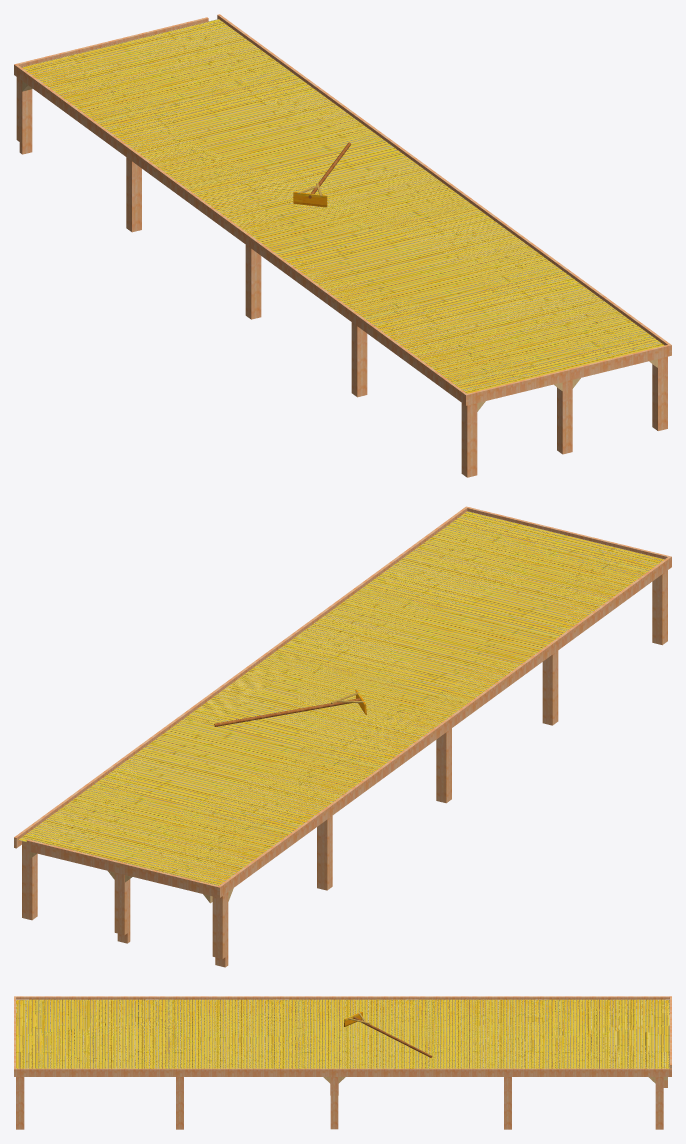
File: Secador.glb
3 renders of one model, top to bottom at view 1: azimuth 30°, elevation 25°; view 2: azimuth 150°, elevation 25°; view 3: azimuth 270°, elevation 25°, orthographic. The views are drawn at different scales.
Visible parts, largest first — view 1: group_79, group_27, group_41, group_78, group_73, group_57, group_51, group_45, group_65, group_38, group_75, group_35; view 2: group_79, group_27, group_41, group_35, group_45, group_57, group_44, group_75, group_51, group_73, group_43, group_78; view 3: group_79, group_41, group_27, group_38, group_43, group_77.002, group_54, group_77, group_248.
Part boxes in pixels (left/top/right/bottom): group_79: left=21, top=19, right=664, bottom=393; group_27: left=14, top=64, right=468, bottom=405; group_41: left=217, top=14, right=671, bottom=356; group_78: left=467, top=345, right=669, bottom=404; group_73: left=461, top=403, right=477, bottom=477; group_57: left=351, top=322, right=367, bottom=397; group_51: left=245, top=245, right=261, bottom=319; group_45: left=16, top=77, right=32, bottom=154; group_65: left=557, top=380, right=572, bottom=454; group_38: left=652, top=356, right=667, bottom=430; group_75: left=126, top=157, right=141, bottom=232; group_35: left=17, top=17, right=208, bottom=66; group_79: left=18, top=511, right=664, bottom=885; group_27: left=217, top=556, right=671, bottom=897; group_41: left=14, top=506, right=468, bottom=848; group_35: left=26, top=839, right=217, bottom=897; group_45: left=212, top=892, right=228, bottom=967; group_57: left=542, top=650, right=558, bottom=725; group_44: left=114, top=872, right=130, bottom=943; group_75: left=317, top=816, right=332, bottom=890; group_51: left=436, top=728, right=451, bottom=803; group_73: left=652, top=570, right=667, bottom=645; group_43: left=22, top=844, right=37, bottom=920; group_78: left=467, top=507, right=668, bottom=559; group_79: left=16, top=999, right=669, bottom=1068; group_41: left=14, top=1068, right=671, bottom=1076; group_27: left=14, top=996, right=671, bottom=999; group_38: left=16, top=1077, right=24, bottom=1129; group_43: left=655, top=1077, right=663, bottom=1129; group_77.002: left=330, top=1077, right=338, bottom=1129; group_54: left=176, top=1077, right=183, bottom=1129; group_77: left=504, top=1077, right=511, bottom=1129; group_248: left=353, top=1016, right=432, bottom=1057.
Size of the model in its own units: 2.05 by 0.91 by 7.8.
Materials: 8 (8 with a texture image).
